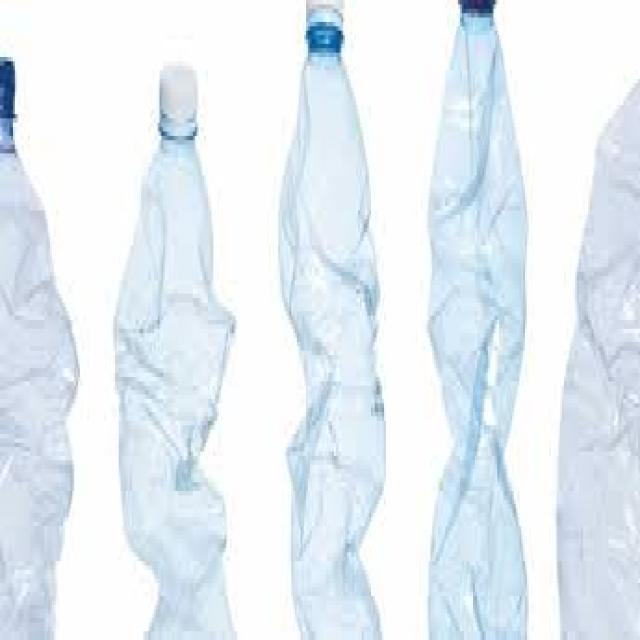Plastic: (110, 62, 234, 640), (278, 0, 386, 640), (428, 0, 527, 640), (558, 74, 640, 634), (0, 55, 76, 629)
